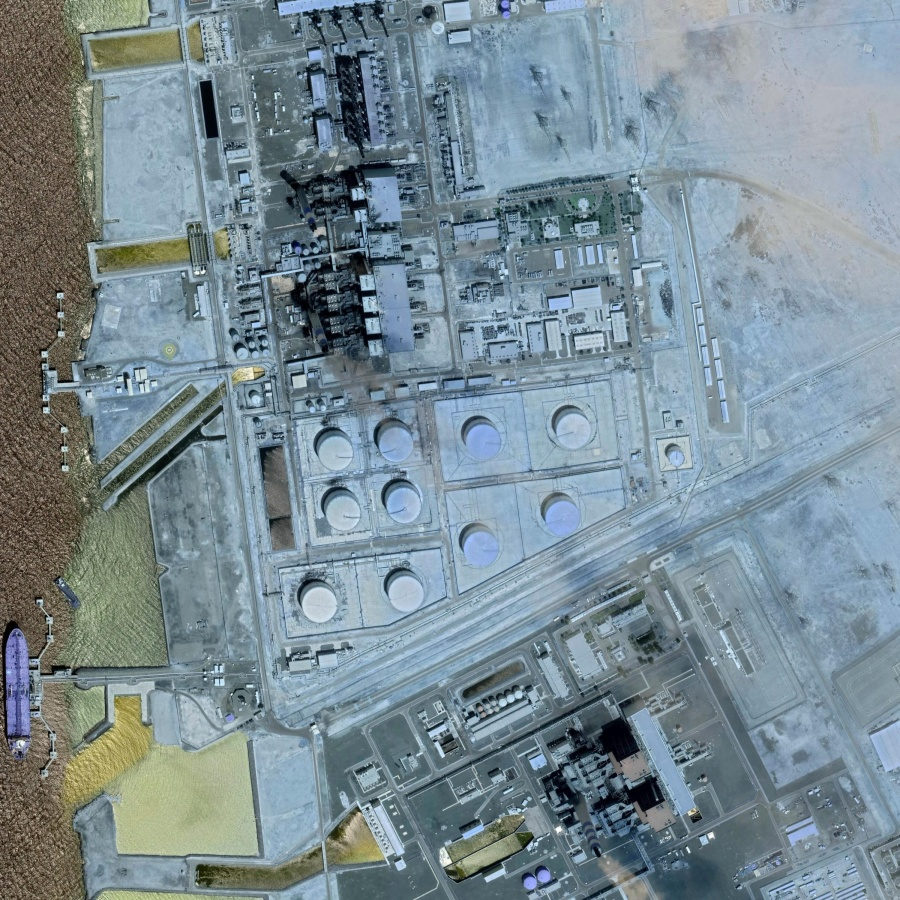PowerPlant: (247, 381, 627, 644), (227, 42, 449, 358)
